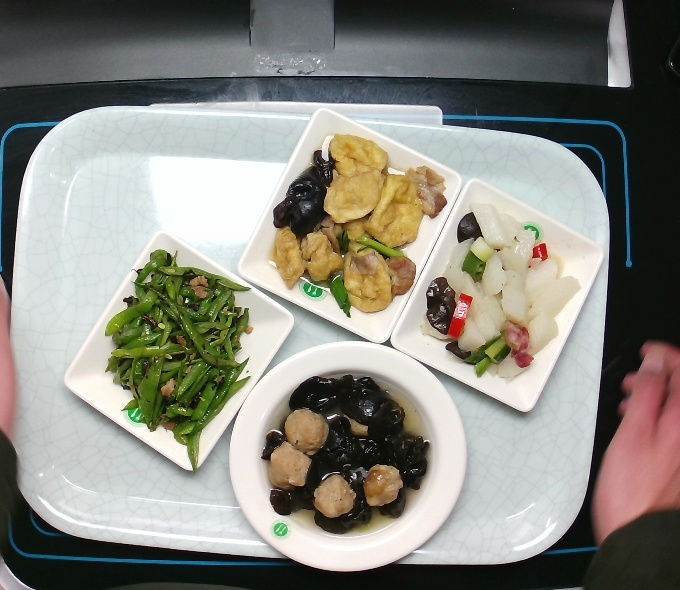wcq-MuErWanZi: (249, 367, 434, 536)
wcq-ShanYao: (424, 205, 588, 376)
wcq-SiJiDouChaoRou: (100, 237, 255, 460)
wcq-YouPaoRouPian: (253, 134, 444, 319)
